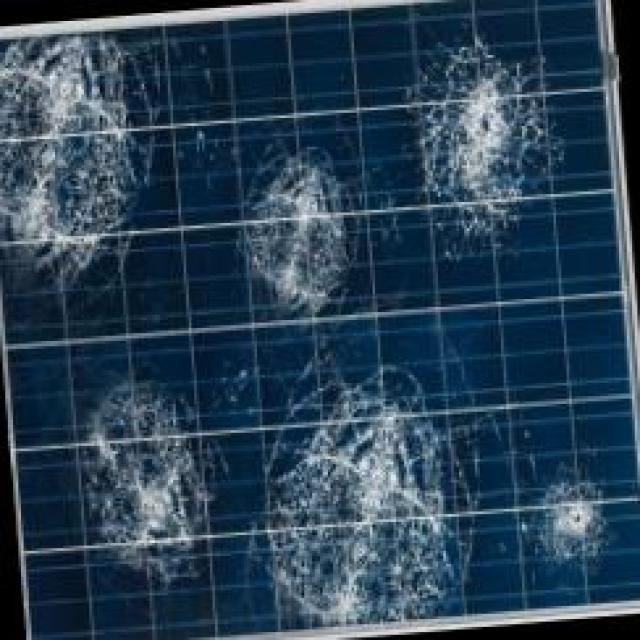Physical-damage: (254, 356, 487, 633), (0, 30, 160, 304), (405, 41, 571, 243), (215, 129, 385, 325), (62, 379, 222, 574), (521, 449, 617, 573)
